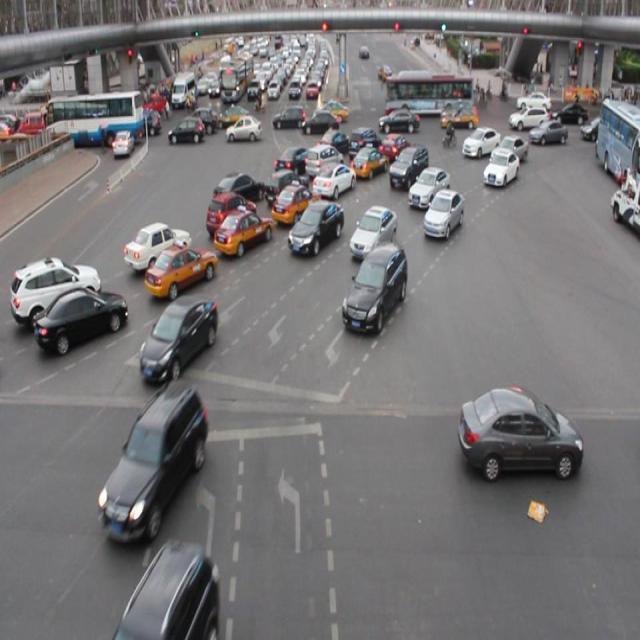car: (99, 384, 203, 536), (459, 388, 580, 475), (116, 541, 218, 640), (141, 297, 216, 381), (36, 287, 130, 354), (12, 254, 102, 318), (342, 243, 406, 331), (145, 243, 217, 300), (287, 201, 344, 256), (213, 204, 272, 256), (124, 222, 191, 267), (350, 205, 395, 257), (205, 190, 257, 234), (270, 180, 320, 222), (422, 189, 463, 239), (387, 144, 430, 190), (264, 167, 309, 208), (214, 173, 263, 209), (408, 167, 448, 209), (313, 160, 355, 198), (481, 147, 518, 188), (350, 144, 388, 182), (274, 145, 312, 181), (461, 126, 499, 157), (347, 129, 382, 161), (491, 136, 526, 167), (378, 133, 413, 162), (317, 129, 351, 157)
truck: (305, 143, 343, 179)
